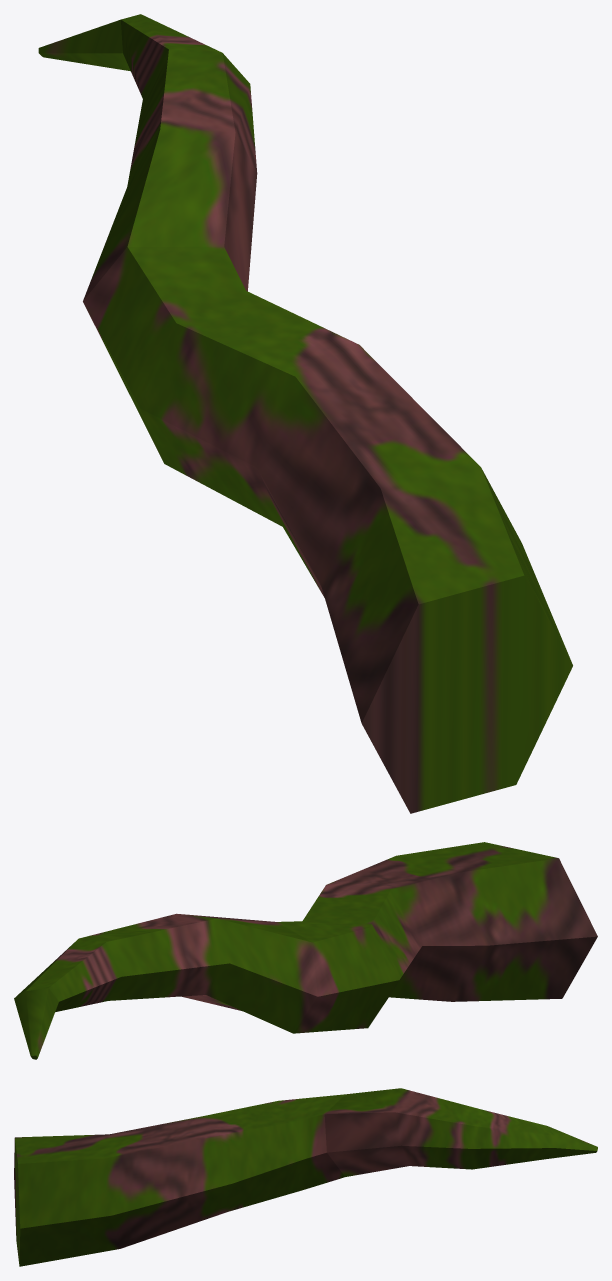
Rendered from largebranch03.fbx.
3 renders of one model, top to bottom at view 1: azimuth 30°, elevation 25°; view 2: azimuth 150°, elevation 25°; view 3: azimuth 270°, elevation 25°, orthographic. The views are drawn at different scales.
Parts seen in each view (by area): view 1: LargeBranch03; view 2: LargeBranch03; view 3: LargeBranch03.
Part boxes in pixels (x1=…): LargeBranch03: x1=38, y1=14, x2=572, y2=813; LargeBranch03: x1=14, y1=842, x2=597, y2=1059; LargeBranch03: x1=14, y1=1088, x2=597, y2=1266.
Size of the model in its own units: 925 by 949 by 2710.
